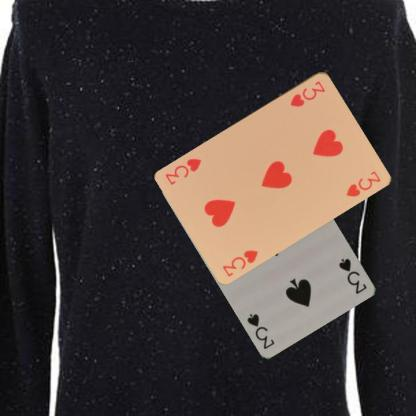3h: (219, 247, 260, 277), (287, 78, 327, 108)
3s: (336, 256, 369, 296)
